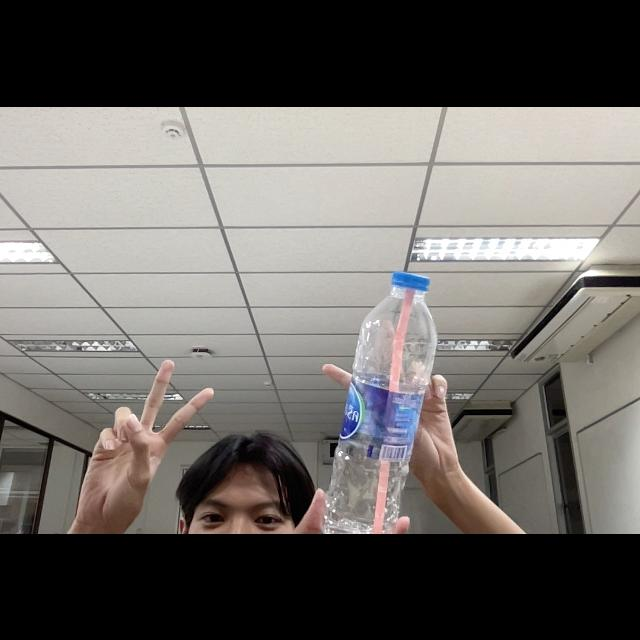plastic_bottle: (320, 267, 444, 533)
plastic_bottle_cap: (390, 266, 432, 292)
straw: (370, 285, 416, 533)
